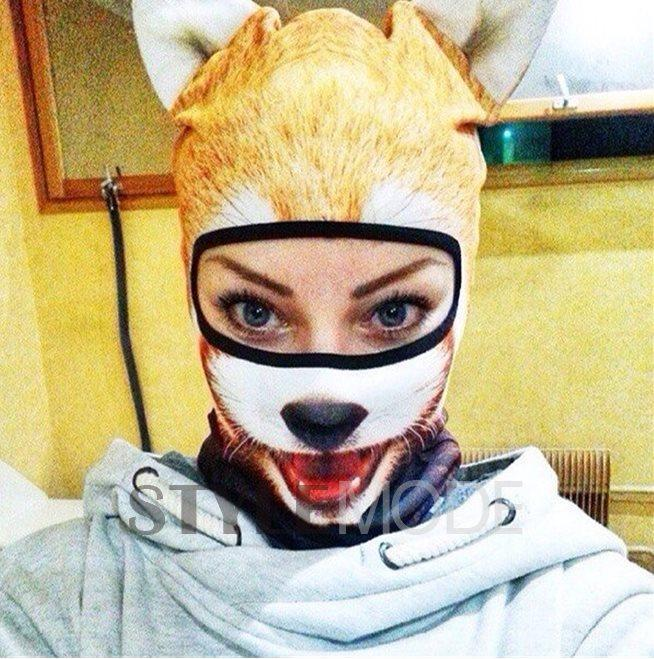OK: (195, 226, 473, 504)
